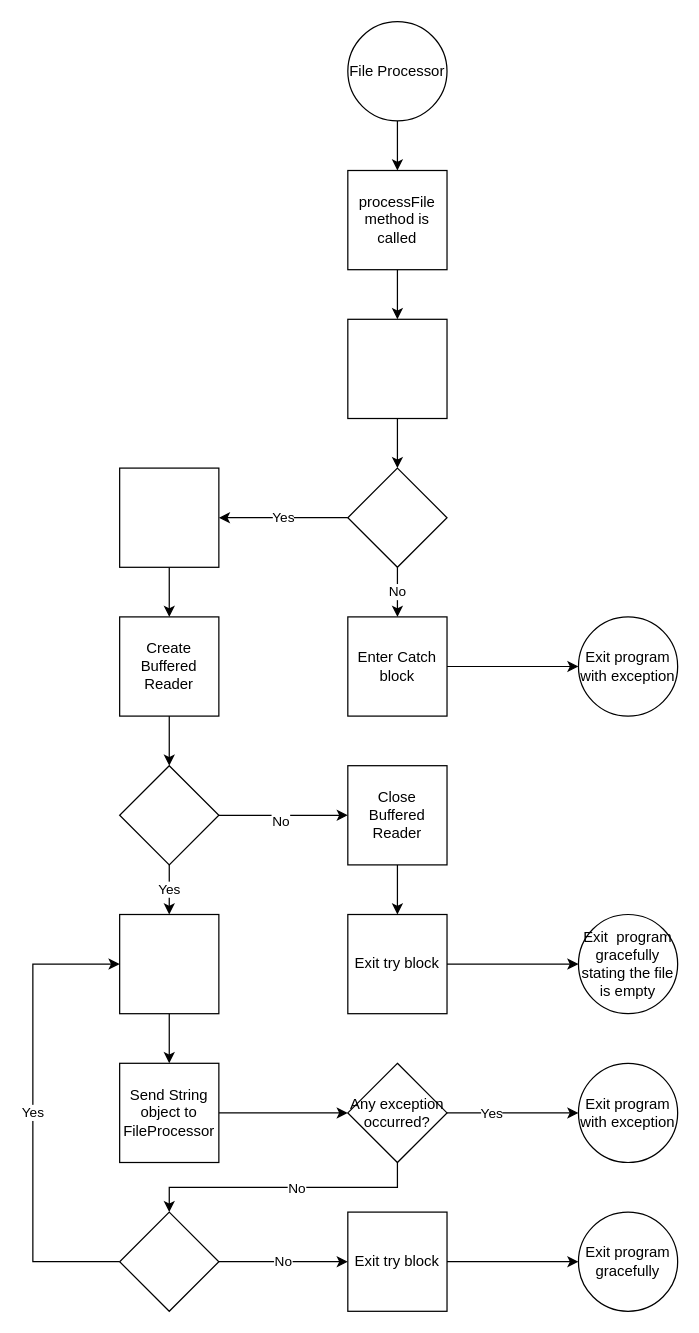
This 699x1333 diagram has some shape labels left out. Each missing label, with the centre of its shape:
Create new file object: (x=168, y=517)
Does: (x=397, y=517)
Does file have a line?: (x=168, y=814)
Does file have another line?: (x=168, y=1261)
Enter try block: (x=397, y=368)
Store line in String object: (x=168, y=963)
